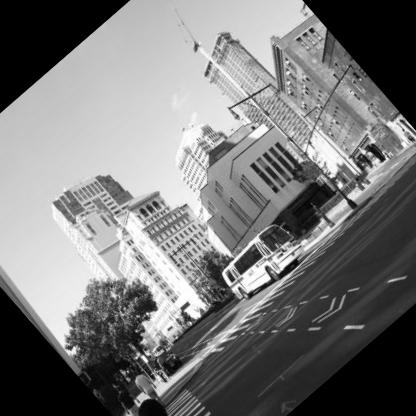bus: (211, 215, 313, 314)
